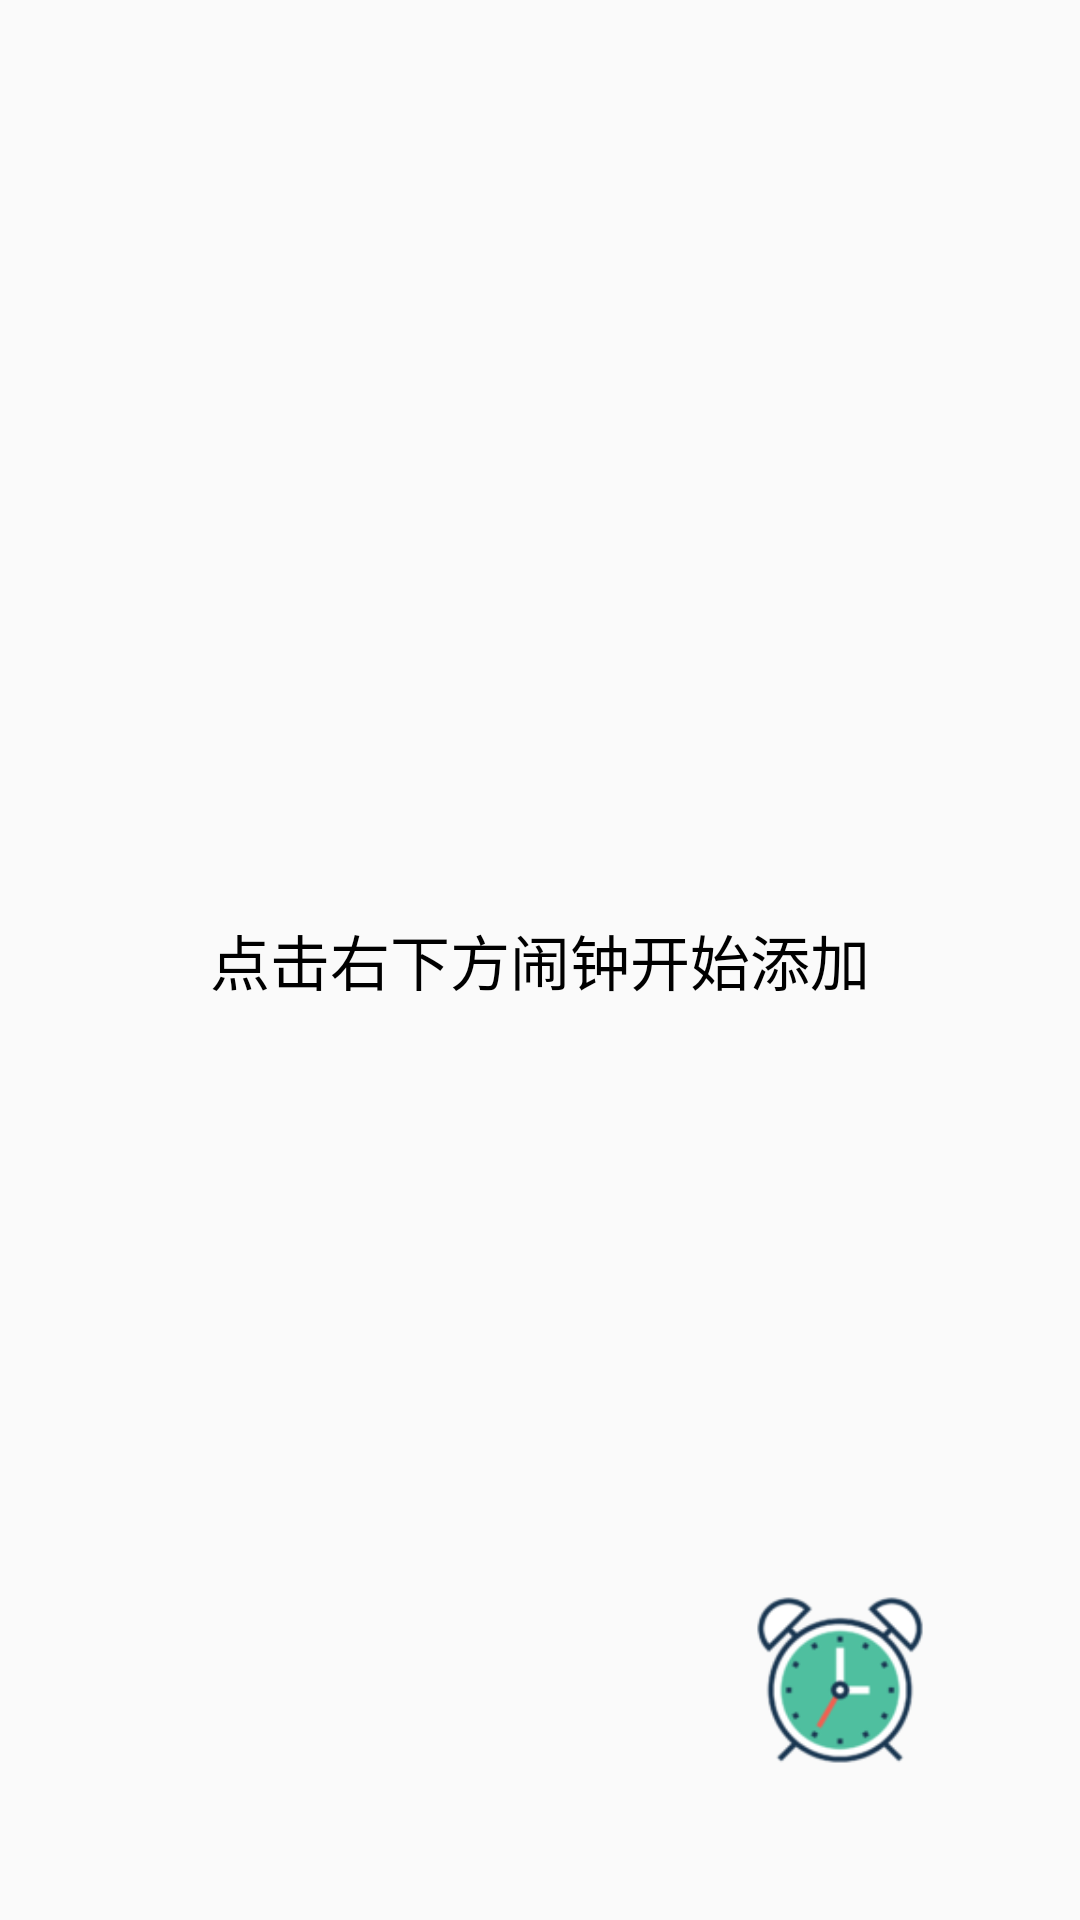

Screen size 1080 x 1920. Icon name, then its box in pixels as BBox(x1, y1, x2, y2):
alarm clock: BBox(757, 1597, 923, 1763)
